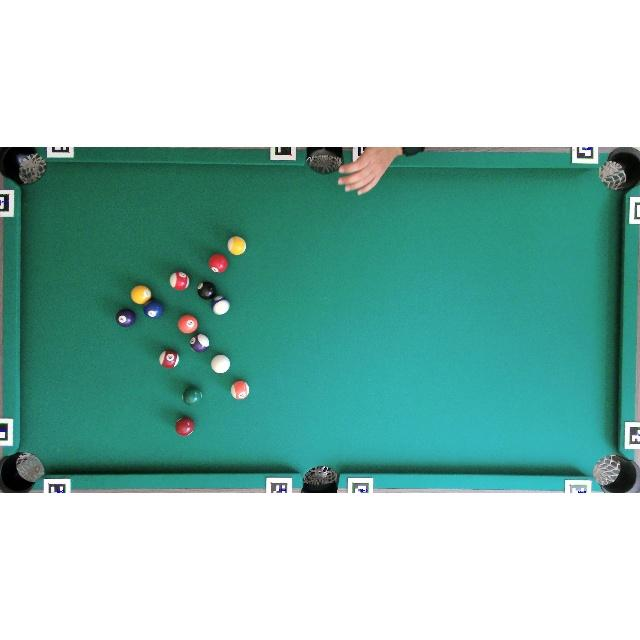cue ball: (211, 354, 230, 374)
other: (129, 284, 152, 304), (169, 271, 190, 292), (115, 308, 136, 328), (208, 253, 228, 274), (182, 386, 203, 406), (178, 314, 198, 334), (230, 380, 250, 400), (175, 416, 195, 436), (210, 295, 230, 315), (143, 300, 164, 319), (189, 333, 210, 352), (227, 235, 246, 255), (159, 350, 179, 369), (197, 281, 216, 300)
